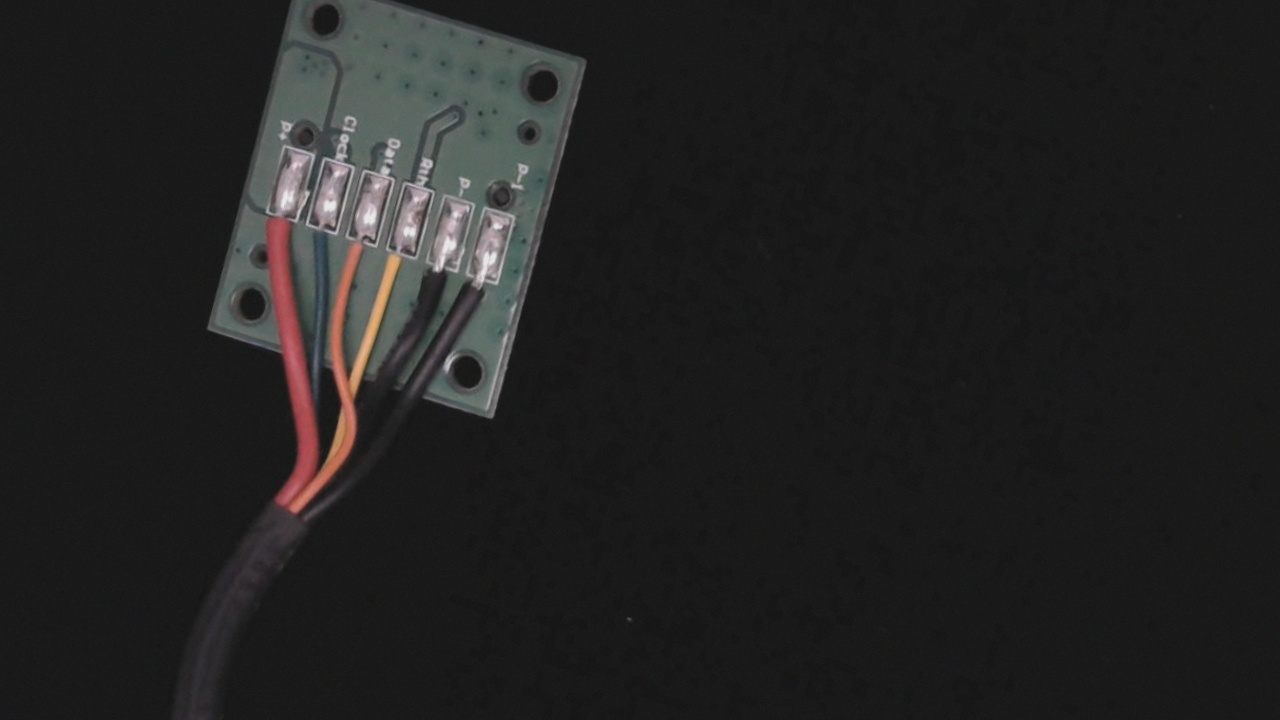Black: (406, 235, 467, 325)
Black1: (448, 250, 506, 333)
Green: (286, 200, 346, 287)
Orange: (327, 210, 386, 298)
Red: (246, 188, 306, 275)
Yellow: (362, 223, 423, 313)
